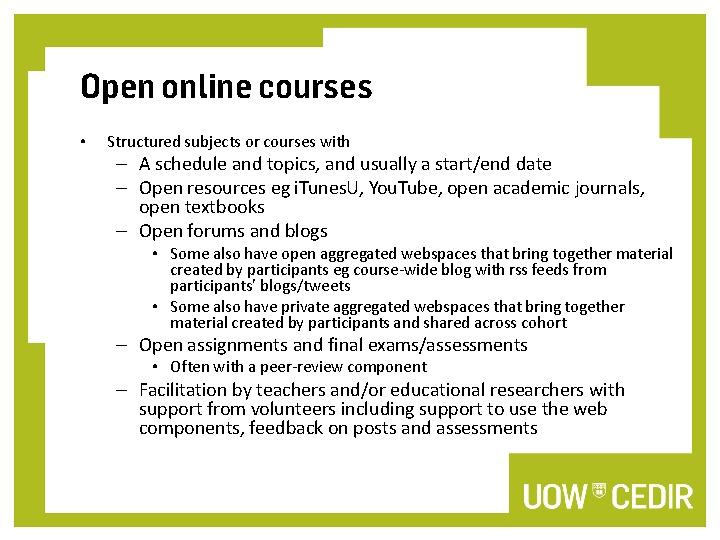paragraph: (65, 124, 677, 444)
title: (77, 61, 384, 117)
